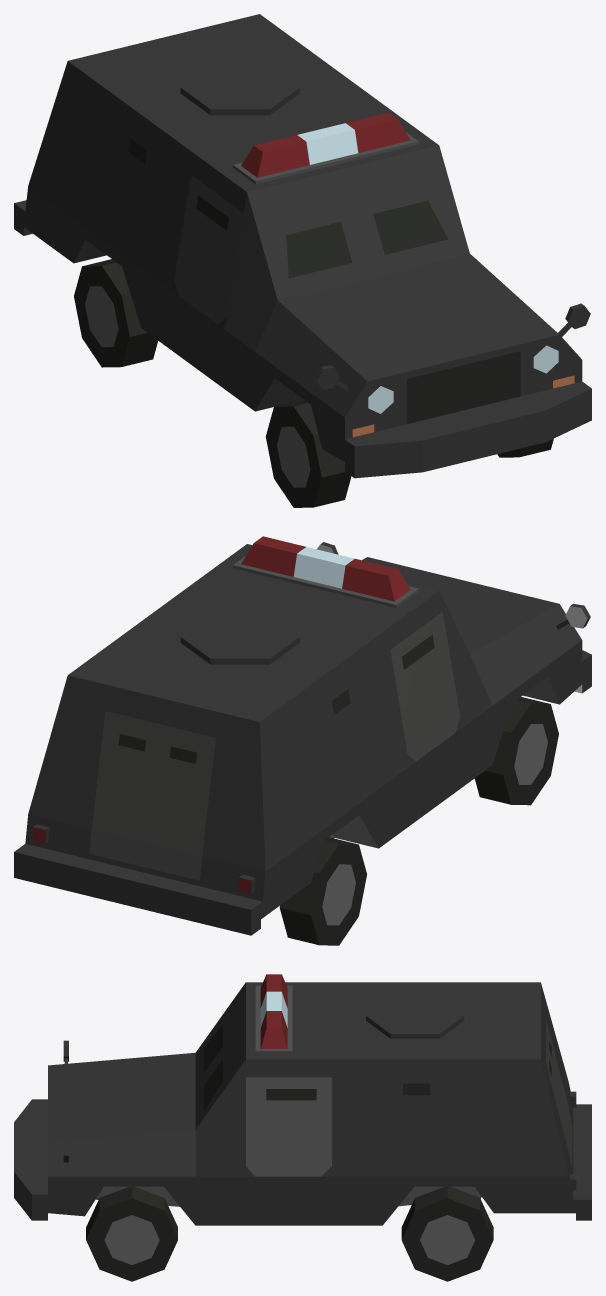
File: Veh_SWAT_APC_02.glb
3 views of the same model, one above another, from view 1: azimuth 30°, elevation 25°; view 2: azimuth 150°, elevation 25°; view 3: azimuth 270°, elevation 25° (orthographic). The views are drawn at different scales.
Visible parts, largest first — view 1: SWAT_APC_02, Wheel_FR, Wheel_RR; view 2: SWAT_APC_02, Wheel_RR, Wheel_FR; view 3: SWAT_APC_02, Wheel_RL, Wheel_FL.
Boxes of the visible parts, <box> form: SWAT_APC_02: <box>14,14,591,478</box>; Wheel_FR: <box>265,399,351,507</box>; Wheel_RR: <box>74,259,157,367</box>; SWAT_APC_02: <box>14,536,591,935</box>; Wheel_RR: <box>279,837,366,945</box>; Wheel_FR: <box>474,697,558,805</box>; SWAT_APC_02: <box>14,974,591,1225</box>; Wheel_RL: <box>401,1186,493,1281</box>; Wheel_FL: <box>86,1186,177,1281</box>.
Bounding box in the file's own units: 1.4 × 1.39 × 3.13.
1 material, 1 textured.
